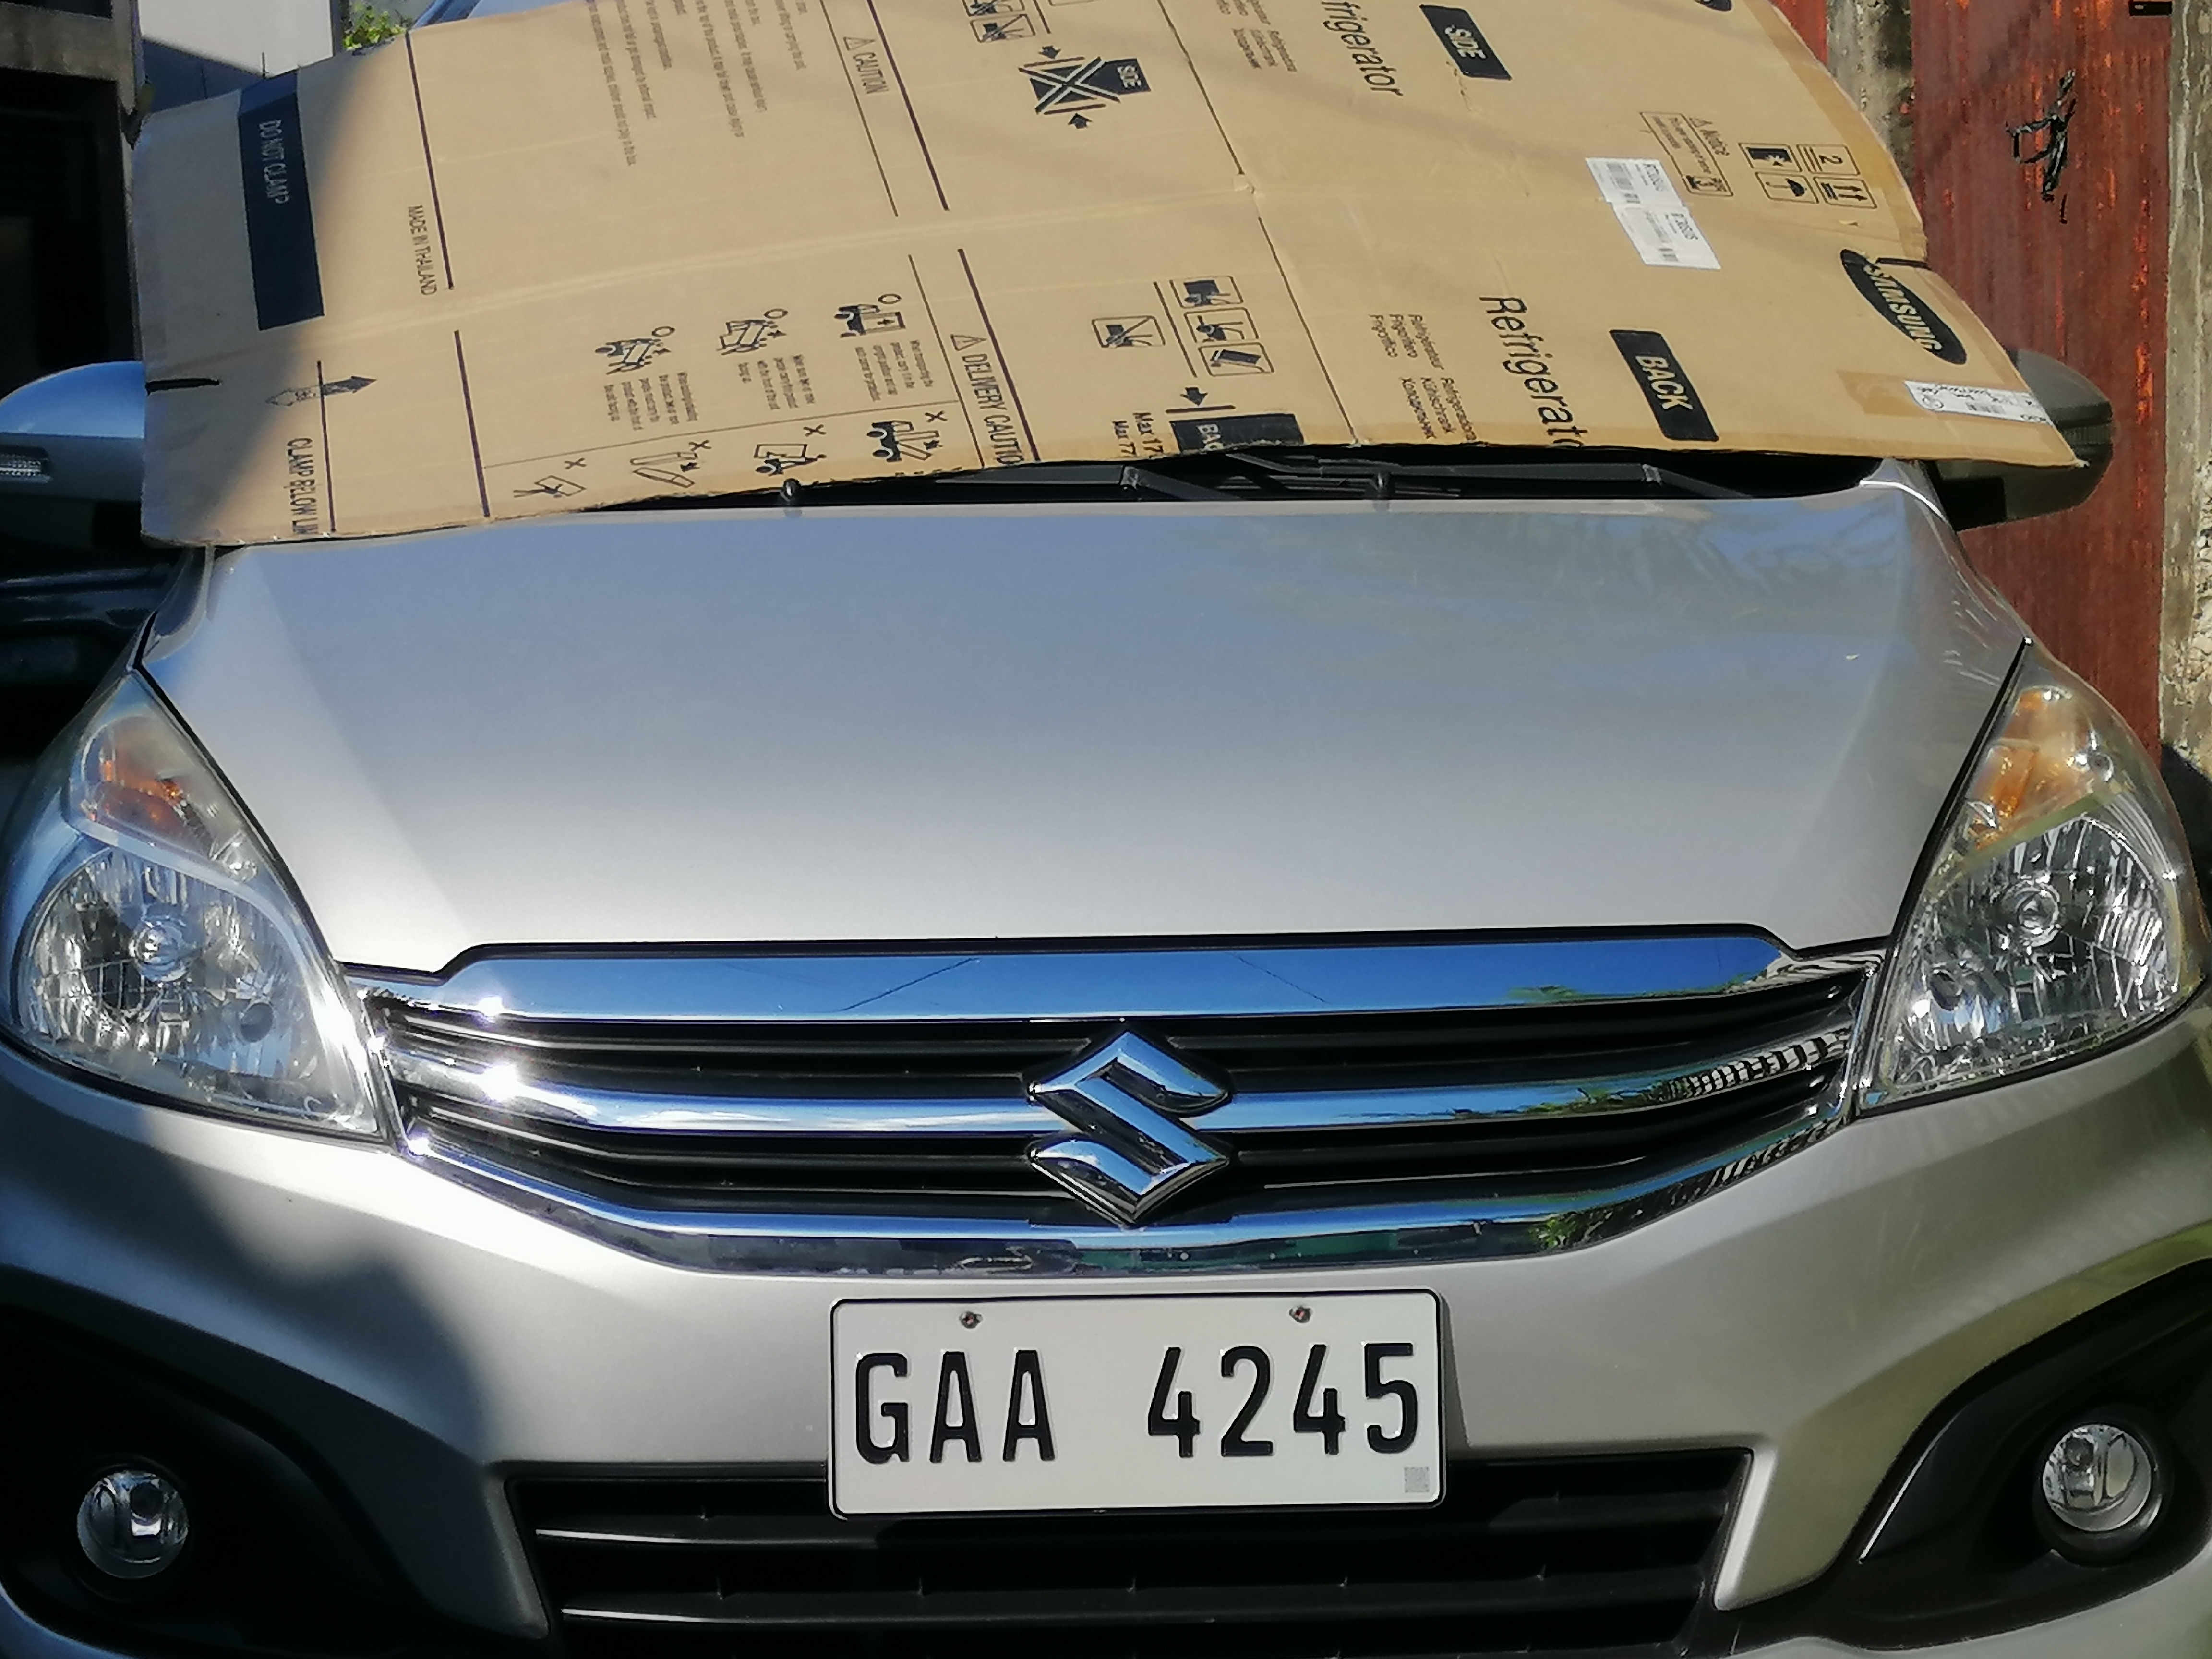car: (10, 17, 2212, 1659)
